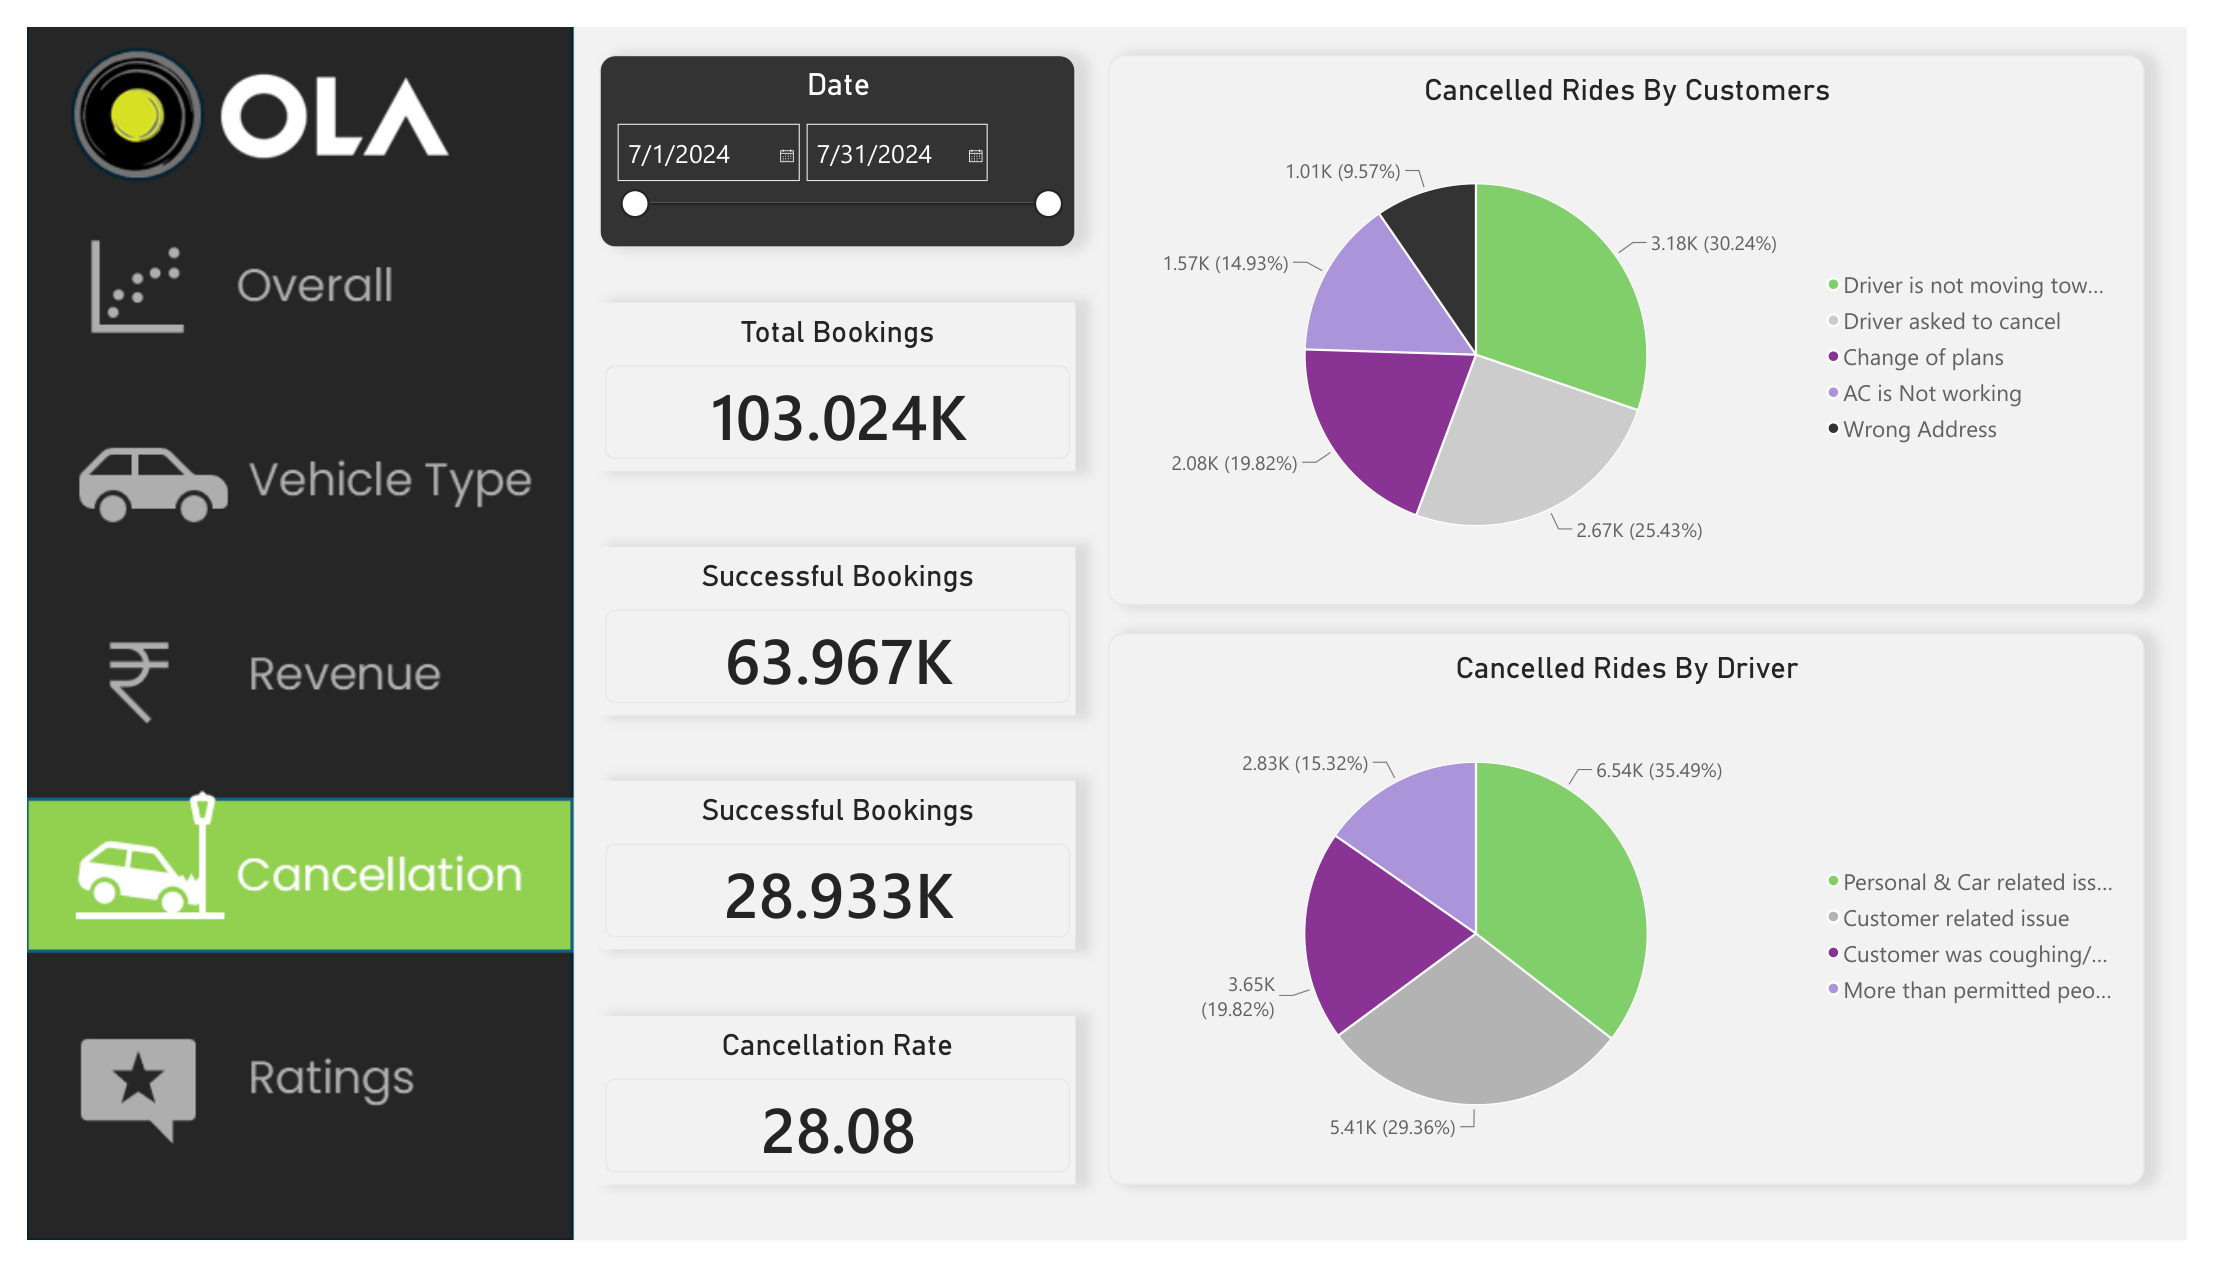

This screenshot's page, from the dashboard's own definition file:
{"tool":"powerbi","page":{"name":"Cancellation","canvas":[1920,1080],"ordinal":3},"visuals":[{"type":"actionButton","box":[0,161.1,483.2,135.7],"z":0},{"type":"actionButton","box":[1.8,327.5,483.2,135.7],"z":1000},{"type":"actionButton","box":[1.8,495.8,483.2,135.7],"z":2000},{"type":"actionButton","box":[0,684.1,483.2,135.7],"z":3000},{"type":"actionButton","box":[1.8,866.8,483.2,135.7],"z":4000},{"type":"pieChart","title":"Cancelled Rides By Customers","fields":{"Category":["July.Canceled_Rides_by_Customer"],"Y":["CountNonNull(July.Canceled_Rides_by_Customer)"]},"box":[960.7,25,921.4,489.3],"z":5000},{"type":"pieChart","title":"Cancelled Rides By Driver","fields":{"Category":["July.Canceled_Rides_by_Driver"],"Y":["CountNonNull(July.Canceled_Rides_by_Driver)"]},"box":[960.7,539.3,921.4,489.3],"z":6000},{"type":"slicer","title":"Date","fields":{"Values":["July.Date"]},"box":[508.9,25,423.2,171.4],"z":7000},{"type":"cardVisual","title":"Total Bookings","fields":{"Data":["CountNonNull(July.Booking_ID)"]},"box":[508.9,244.6,423.2,150],"z":8000},{"type":"cardVisual","title":"Successful Bookings","fields":{"Data":["CountNonNull(July.Booking_ID)"]},"box":[508.9,462.5,423.2,150],"z":9000},{"type":"cardVisual","title":"Successful Bookings","fields":{"Data":["CountNonNull(July.Booking_ID)"]},"box":[508.9,669.6,423.2,150],"z":9001},{"type":"cardVisual","title":"Cancellation Rate","fields":{"Data":["July.CanceledPercentage"]},"box":[508.9,878.6,423.2,150],"z":9002}]}

Visuals, with their boxes in screenshot pixels (x1, y1, x2, y2), scaled from the page's 1920x1080 canvas onto the 2214x1269 screenshot:
actionButton: [left=0, top=189, right=557, bottom=349]
actionButton: [left=2, top=385, right=559, bottom=544]
actionButton: [left=2, top=583, right=559, bottom=742]
actionButton: [left=0, top=804, right=557, bottom=963]
actionButton: [left=2, top=1018, right=559, bottom=1178]
"Cancelled Rides By Customers" pieChart: [left=1108, top=29, right=2170, bottom=604]
"Cancelled Rides By Driver" pieChart: [left=1108, top=634, right=2170, bottom=1209]
"Date" slicer: [left=587, top=29, right=1075, bottom=231]
"Total Bookings" cardVisual: [left=587, top=287, right=1075, bottom=464]
"Successful Bookings" cardVisual: [left=587, top=543, right=1075, bottom=720]
"Successful Bookings" cardVisual: [left=587, top=787, right=1075, bottom=963]
"Cancellation Rate" cardVisual: [left=587, top=1032, right=1075, bottom=1209]
